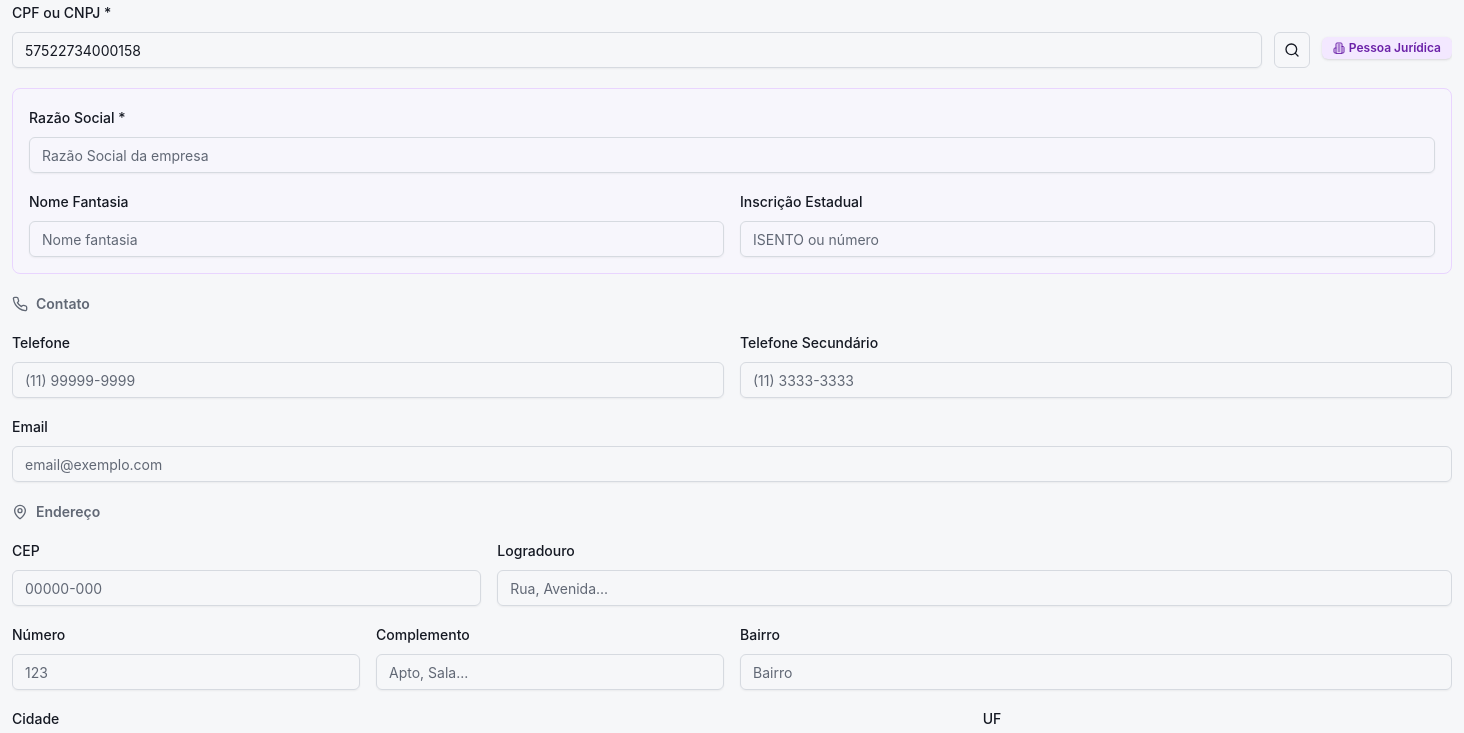
ClienteFormularioCampos — consulta de CNPJ › mantém o formulário editável após falha e limpa o resultado ao alterar o CNPJ
Click the button named "Buscar dados do CNPJ" at (1292, 50), box [1274,32,1310,68]
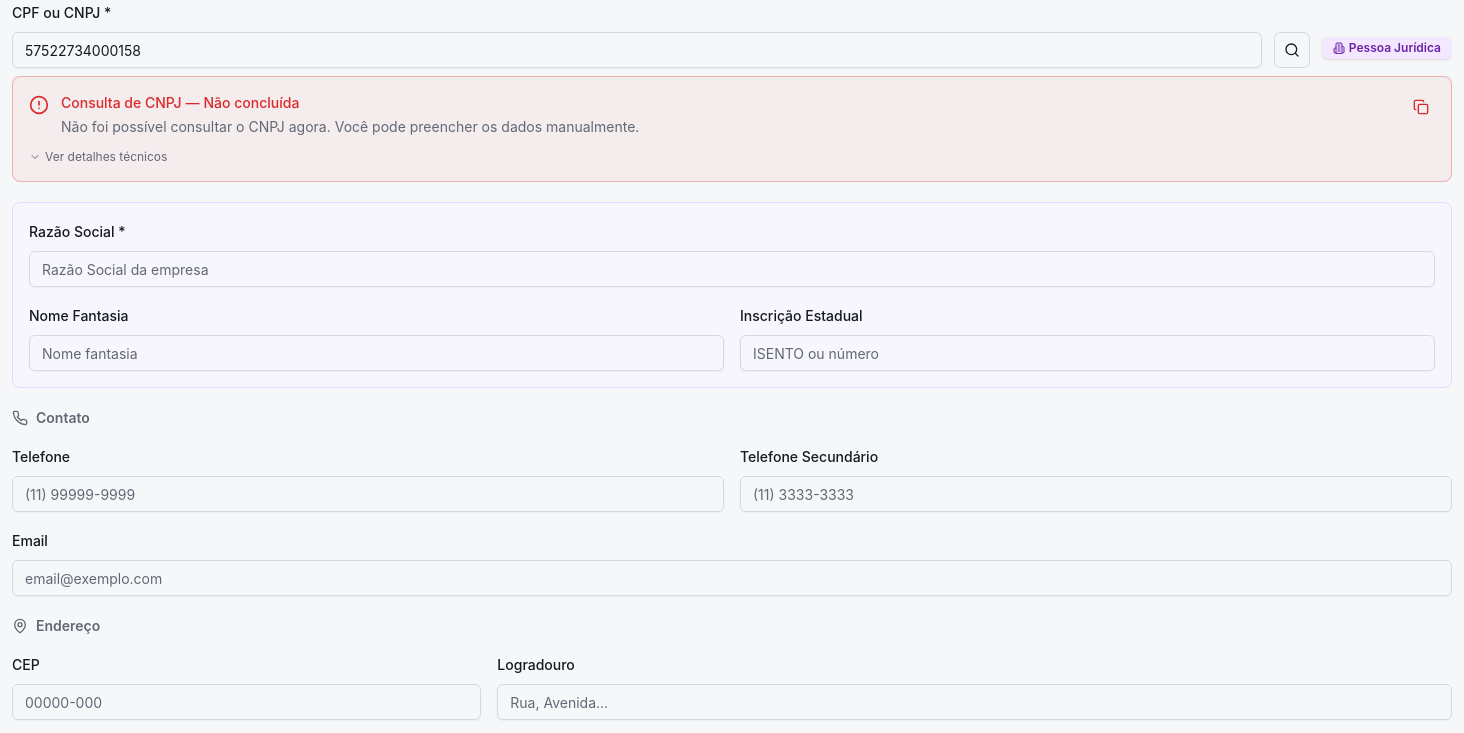
Expected: the text "Não foi possível consultar o CNPJ agora. Você pode preencher os dados manualmente." is shown, [61,118,639,135]
Expected: the button titled "Copiar detalhes" is shown, [1407,93,1435,121]
Click the button "Ver detalhes técnicos" at (98, 157), box [29,149,167,165]
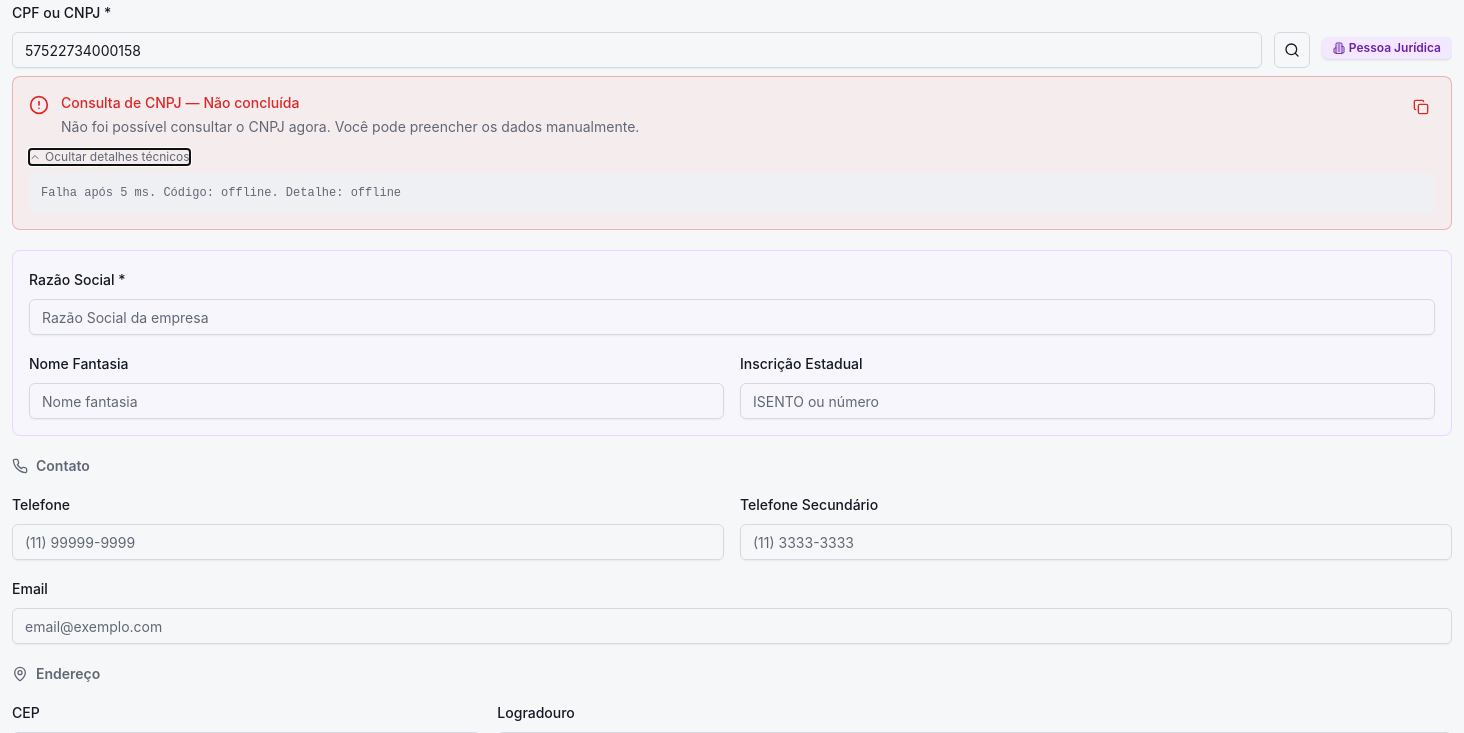
Expected: the field labelled "CPF ou CNPJ *" is enabled, [12,32,1262,68]
Expected: the text "Falha após 5 ms. Código: offline. Detalhe: offline" is shown, [29,173,1435,213]
Click the button named "Buscar dados do CNPJ" at (1292, 50), box [1274,32,1310,68]
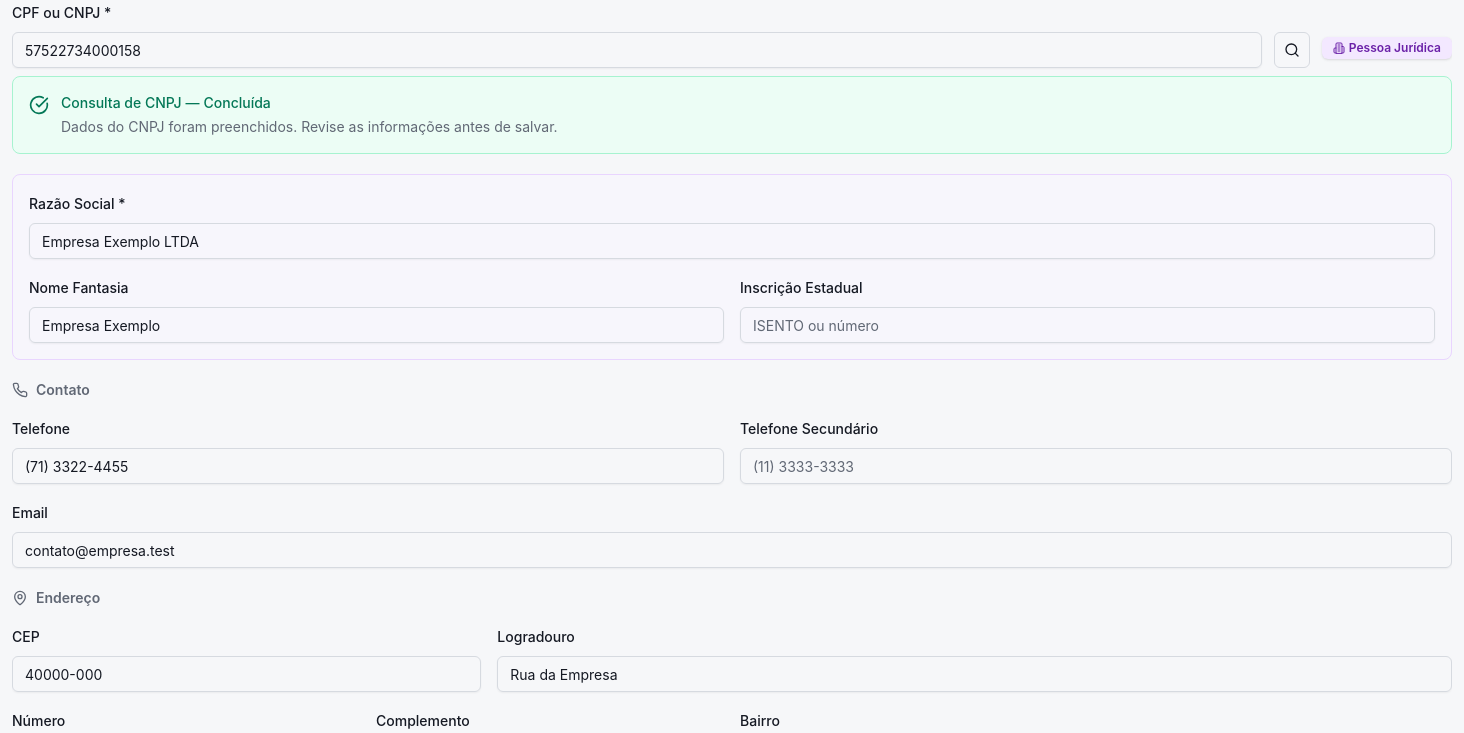
Expected: the text "Dados do CNPJ foram preenchidos. Revise as informações antes de salvar." is shown, [61,118,558,135]
Replace the text in the field labelled "CPF ou CNPJ *" with "19131243000197" at (637, 50), box [12,32,1262,68]
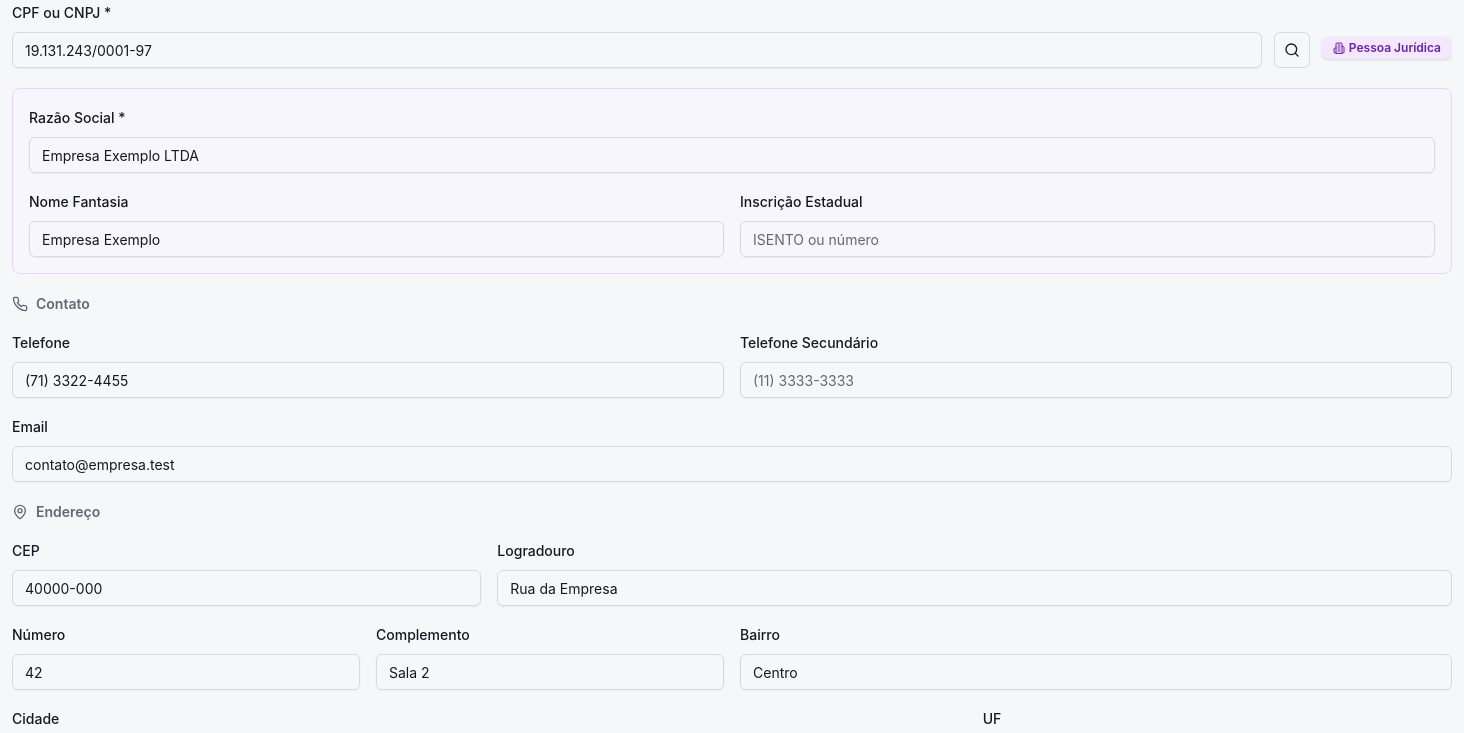
Expected: the text "Dados do CNPJ foram preenchidos. Revise as informações antes de salvar." is gone
